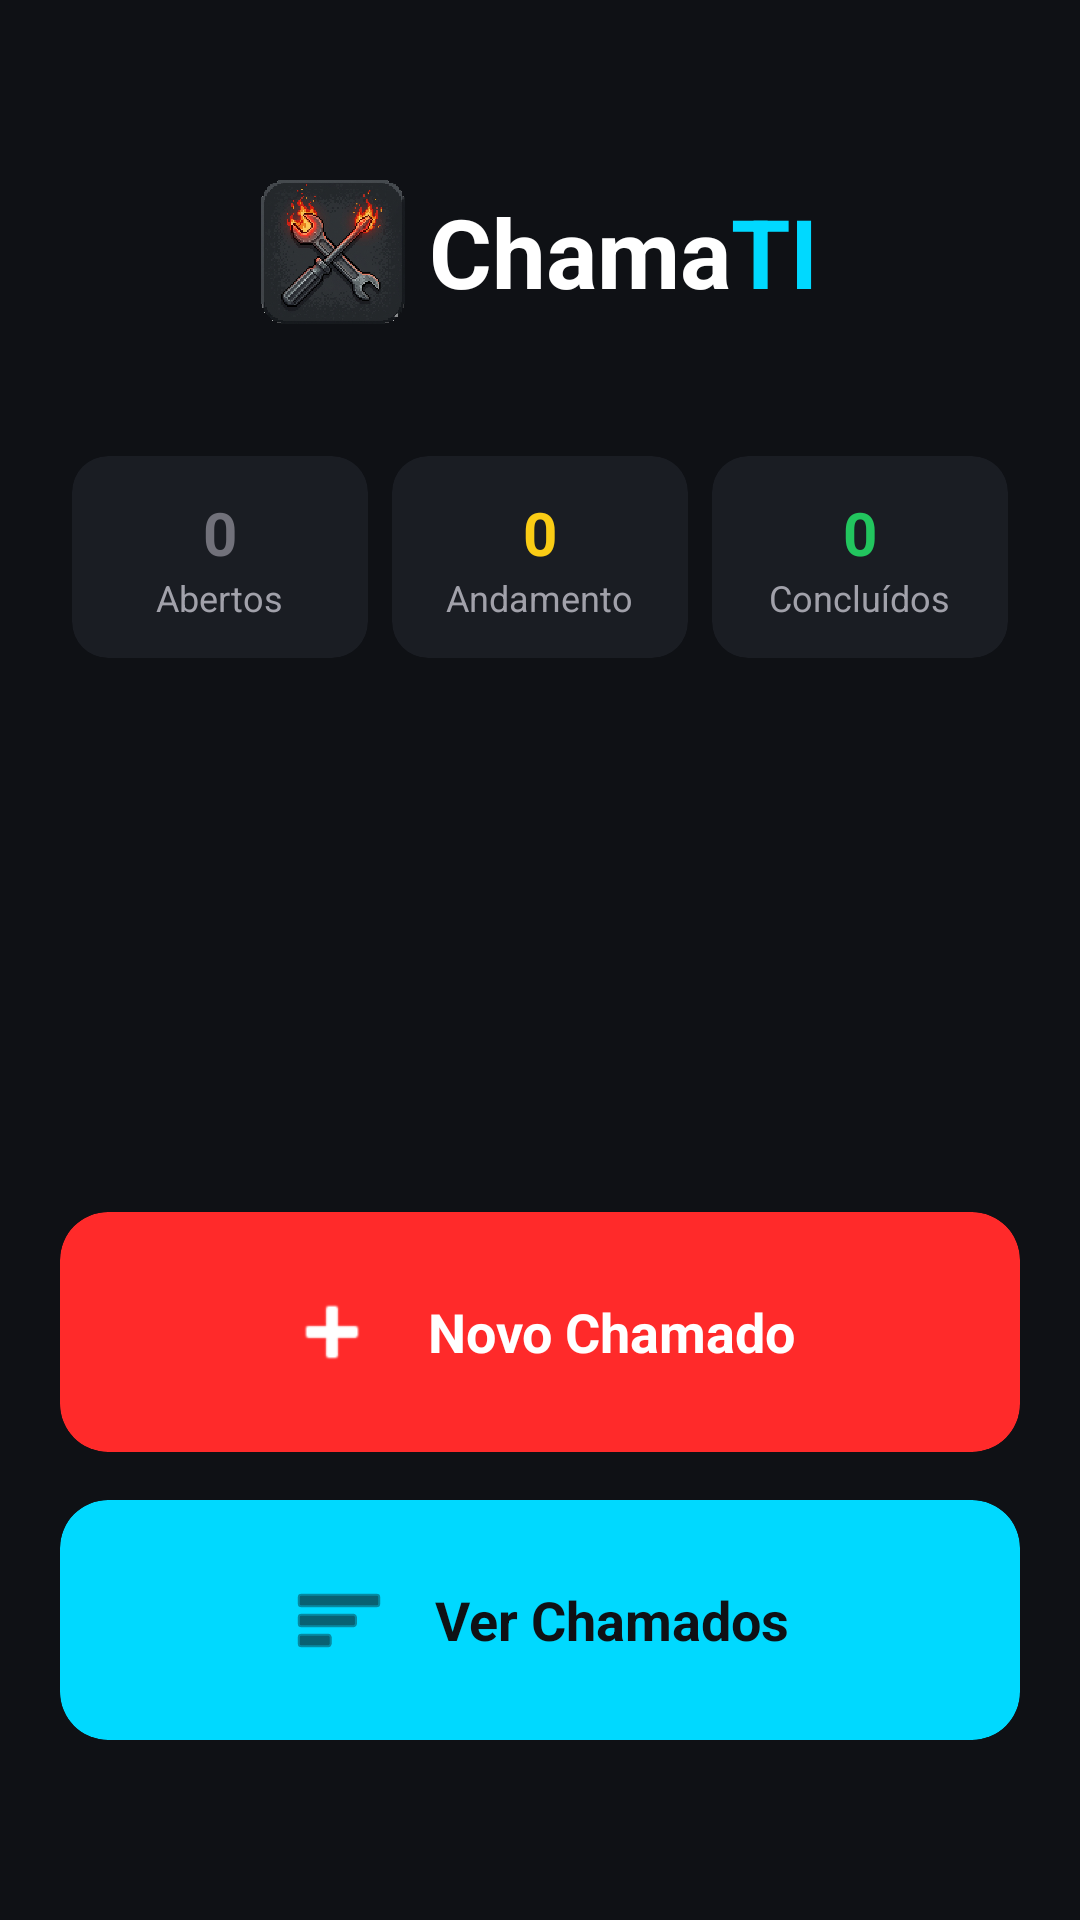

Locate icon controls on the screen. Image size 1080px x 1920px, boxes as (x1, y1, x2, y2).
add: (305, 1305, 359, 1359)
sort by size: (298, 1594, 380, 1647)
